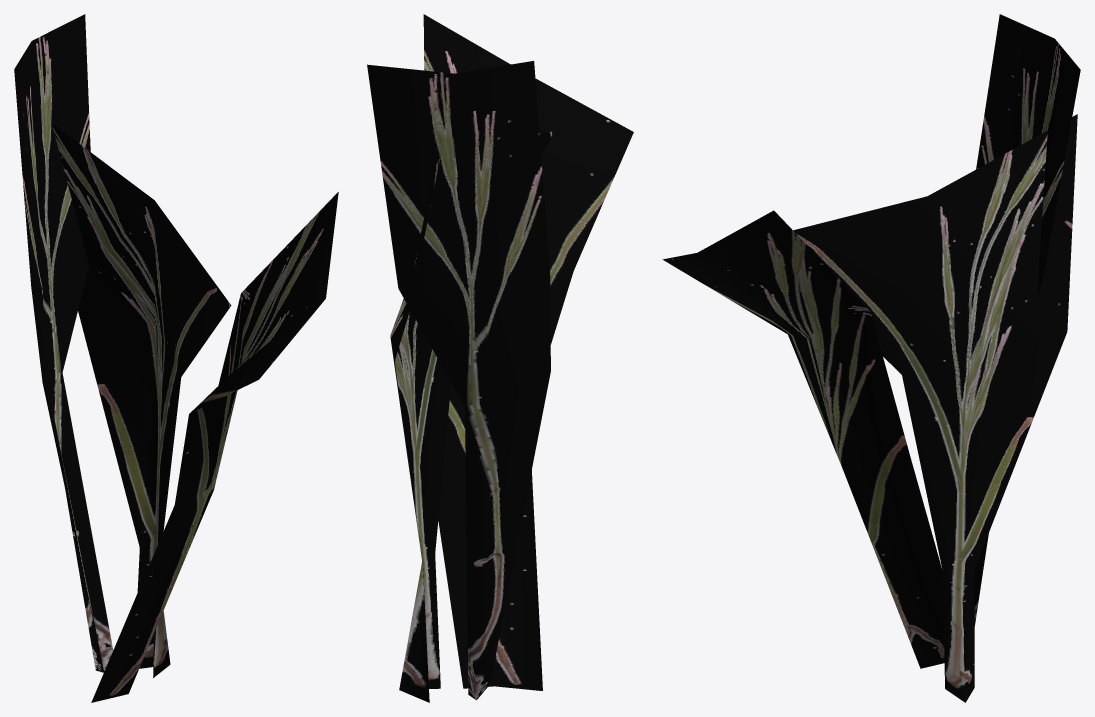
The model's file is SM_grass_4.fbx.
The picture shows the model from 3 angles, left to right: view 1: azimuth 30°, elevation 25°; view 2: azimuth 150°, elevation 25°; view 3: azimuth 270°, elevation 25°; orthographic projection. The views are drawn at different scales.
Visible parts, largest first — view 1: SM_grass_4_LOD0; view 2: SM_grass_4_LOD0; view 3: SM_grass_4_LOD0.
Boxes of the visible parts, <box> form: SM_grass_4_LOD0: <box>14,14,338,702</box>; SM_grass_4_LOD0: <box>367,14,633,702</box>; SM_grass_4_LOD0: <box>662,14,1080,702</box>.
Bounding box in the file's own units: 21.5 × 36.48 × 59.75.
